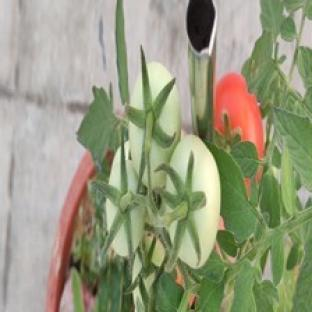Tomato: (170, 136, 220, 267), (215, 73, 264, 158), (151, 85, 181, 186), (127, 205, 144, 250)
